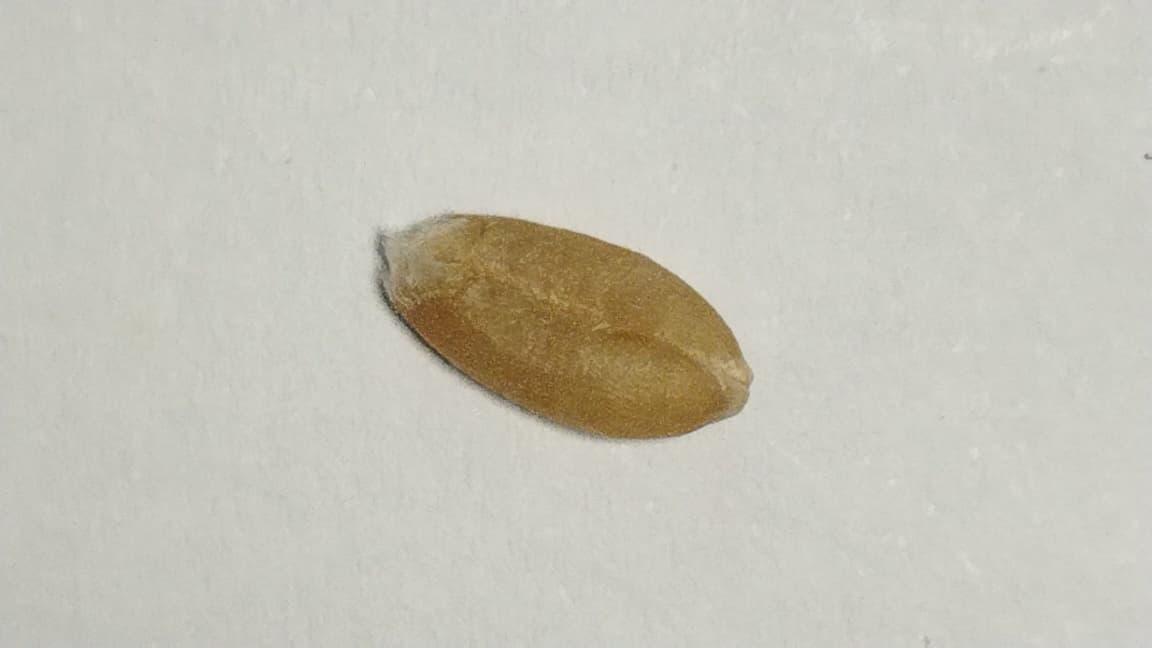healthy: (382, 215, 751, 437)
